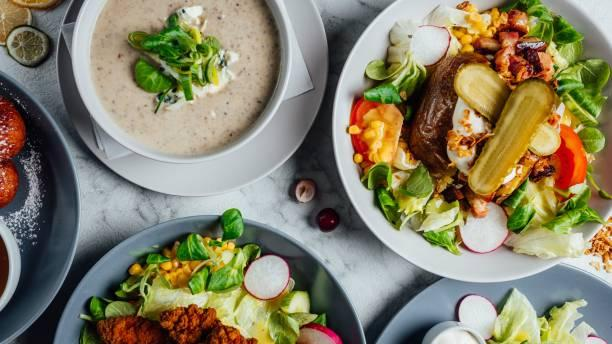Braised Crucian Carp: (332, 1, 608, 285), (51, 214, 364, 344), (71, 0, 304, 162)
